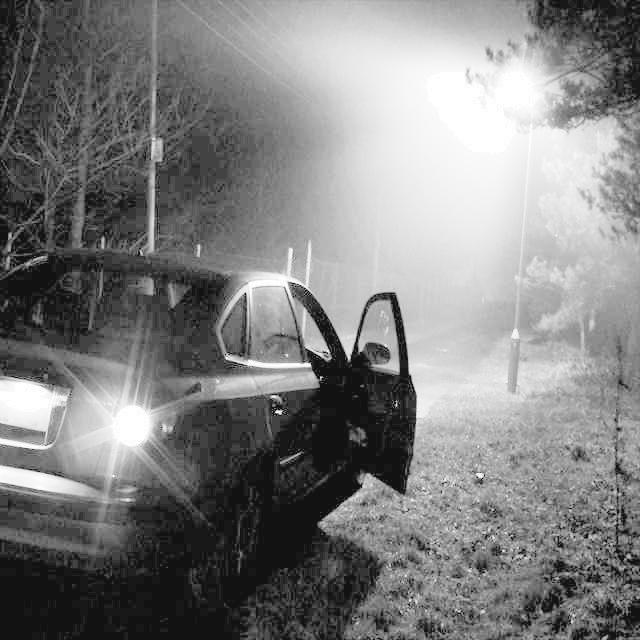Car: (0, 246, 415, 582)
